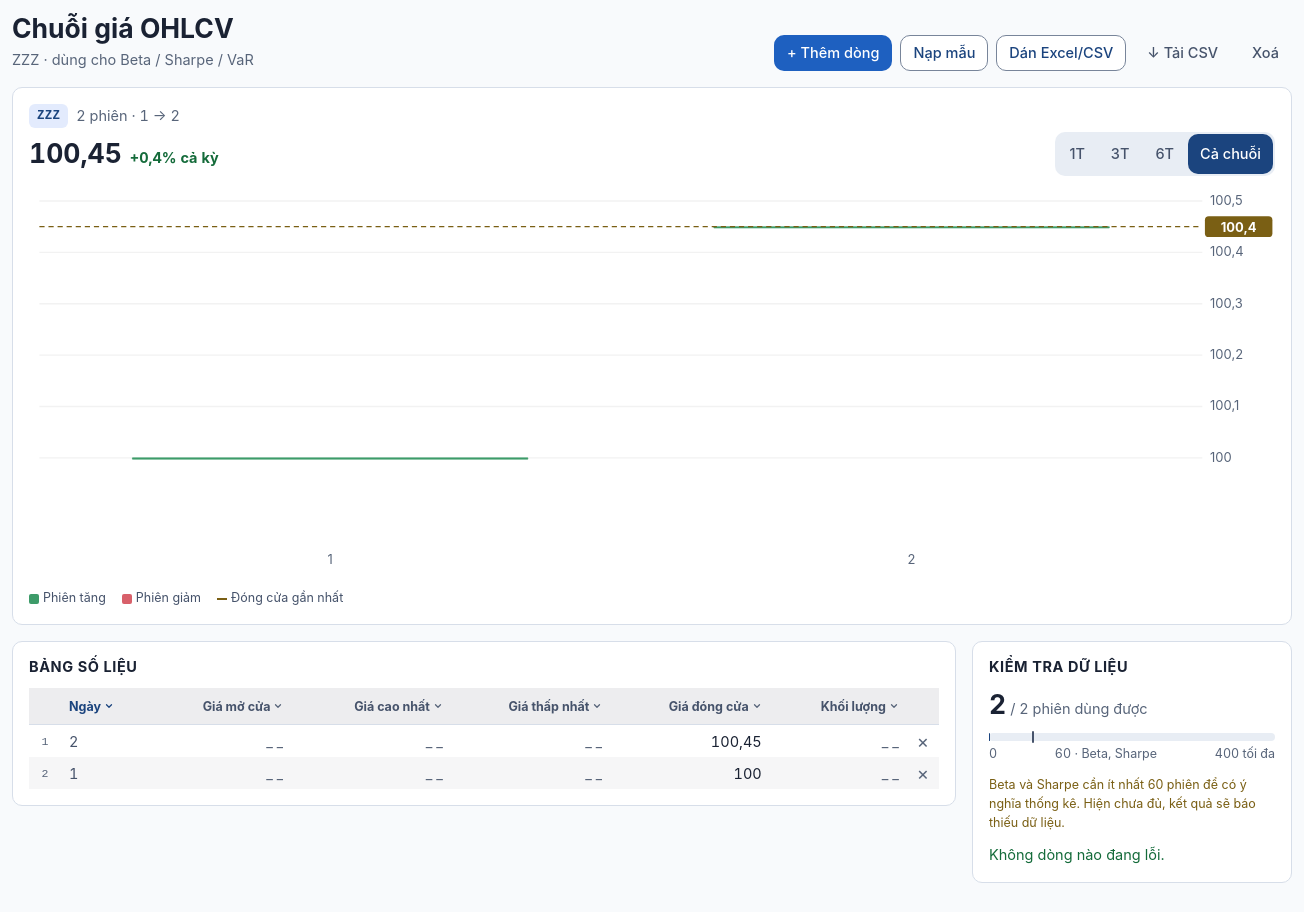
Scenario: DataTableScreen — dán đè hay xoá bảng thì mã cũ không còn › xoá cả bảng rồi gõ dòng mới thì dòng ấy không mang mã cũ
The image size is (1304, 912).
Expected: the field named "Dòng 1 · Đóng" is shown, [610, 725, 770, 757]
Click the button "Xoá" at (1266, 53), box [1239, 35, 1292, 71]
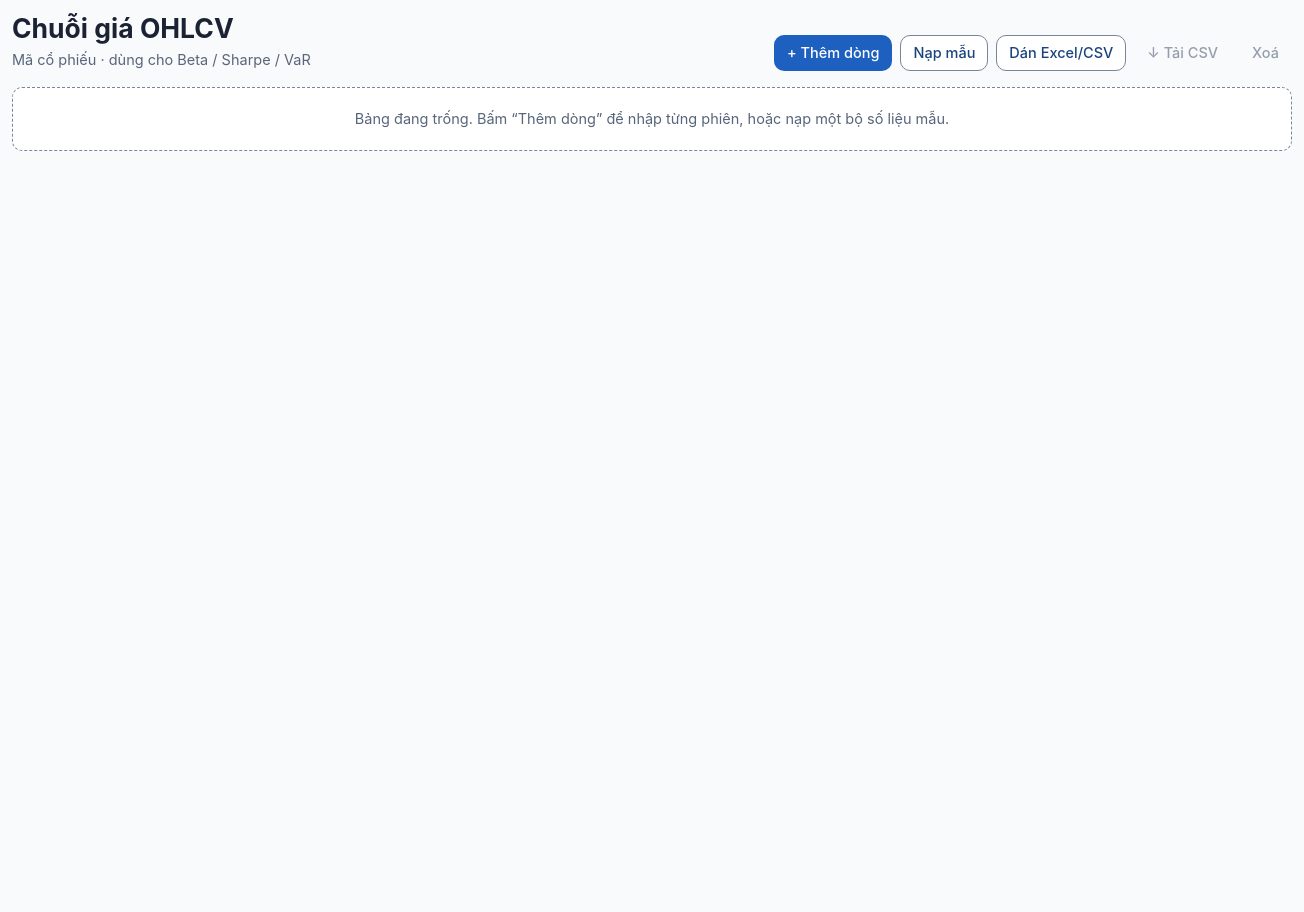
Click the button "+ Thêm dòng" at (833, 53), box [774, 35, 892, 71]
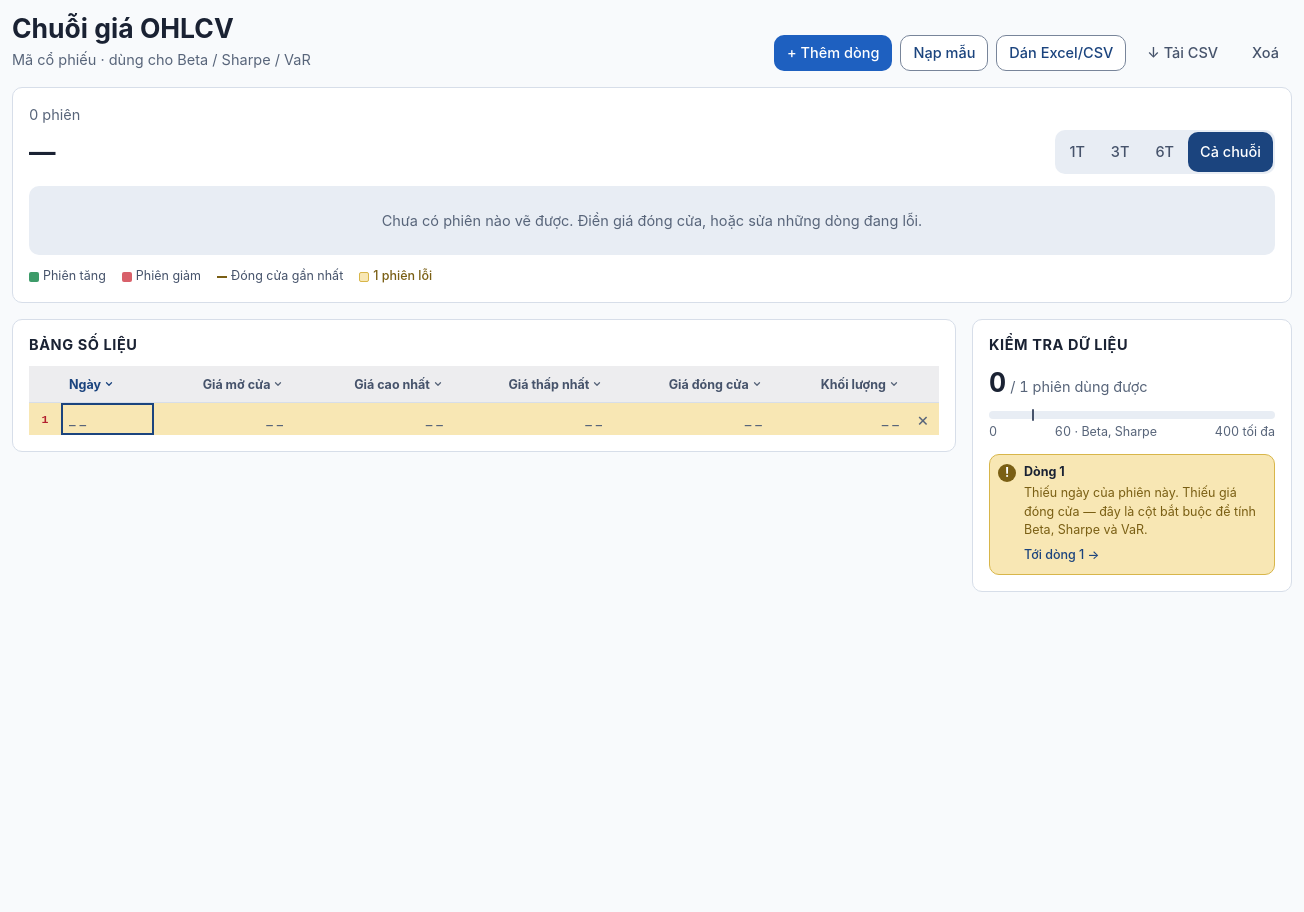
Expected: the text "ZZZ" is not shown
Expected: the field named "Dòng 1 · Ngày" is shown, [61, 403, 154, 435]
